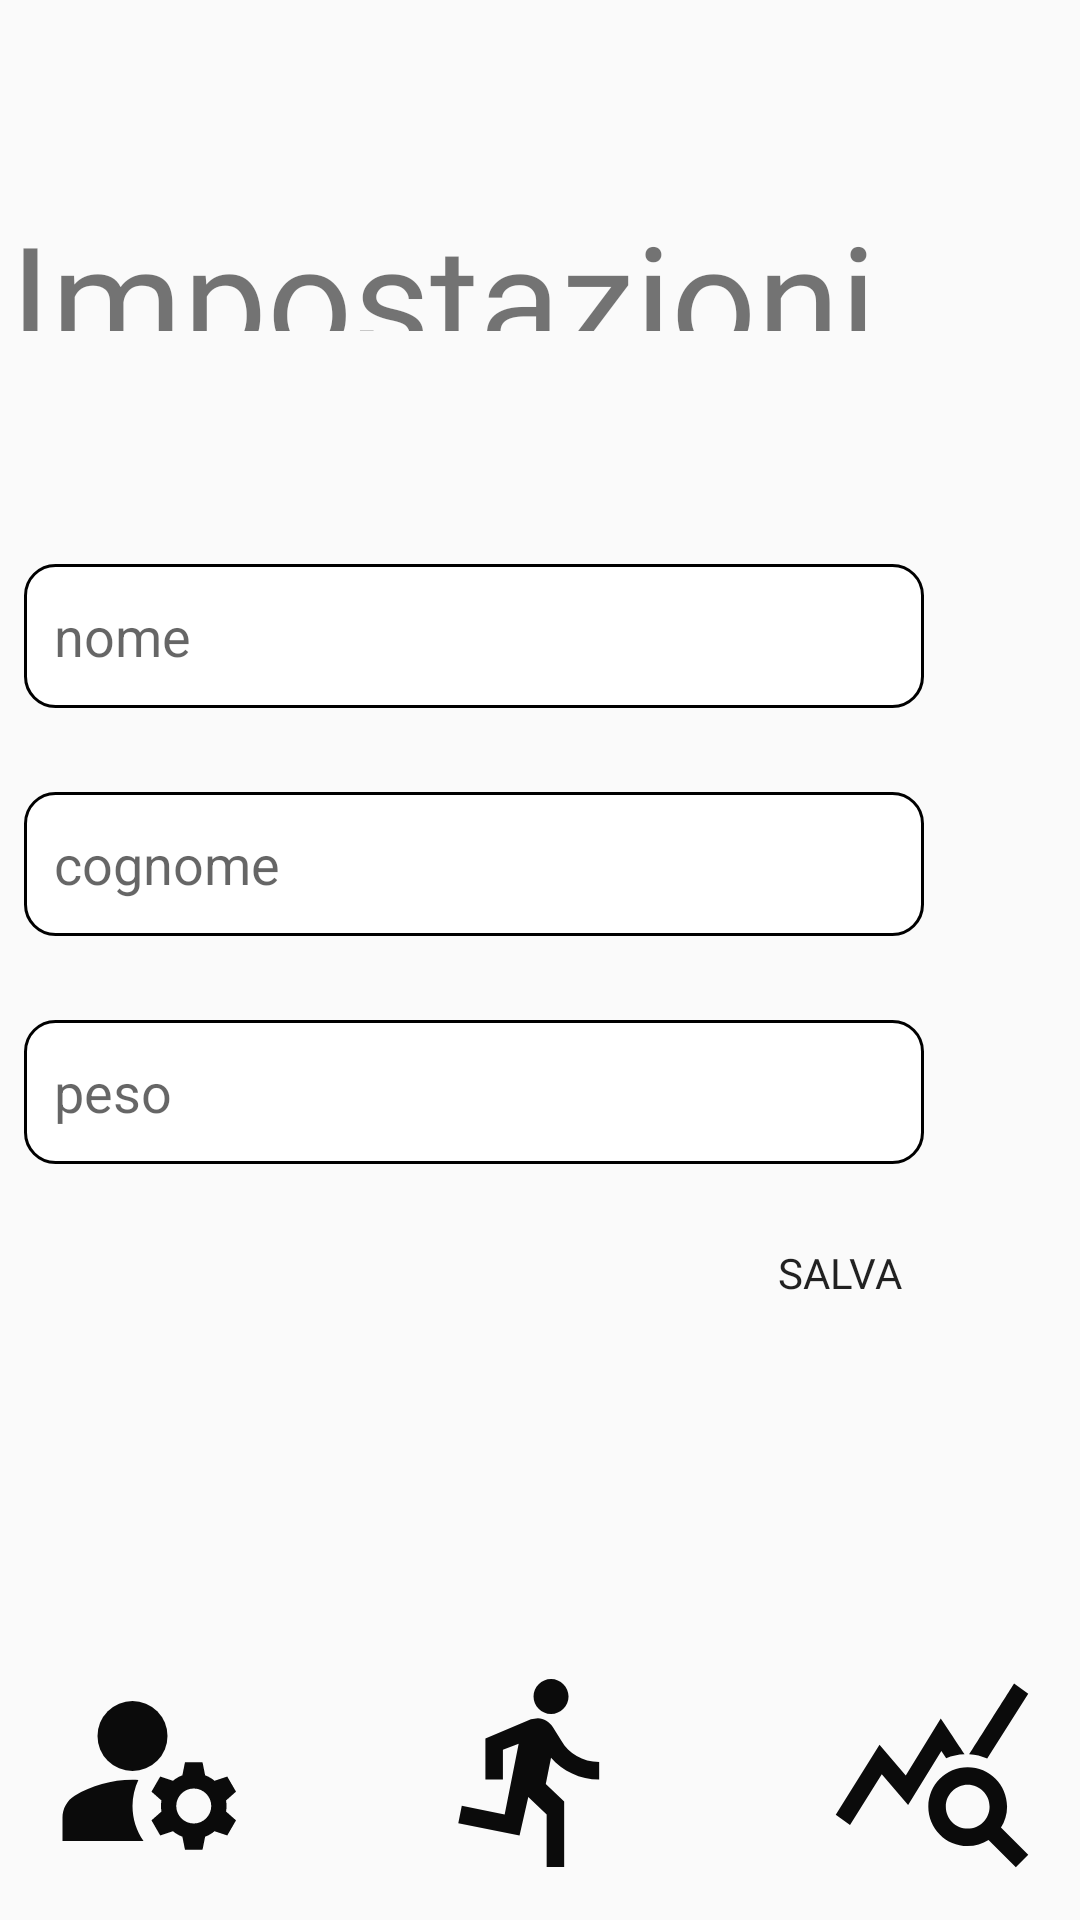

Named icons in this screenshot (1080 × 1920) and their centers, (x,y):
directions run: (529,1773)
manage accounts: (149,1775)
query stats: (932,1775)
